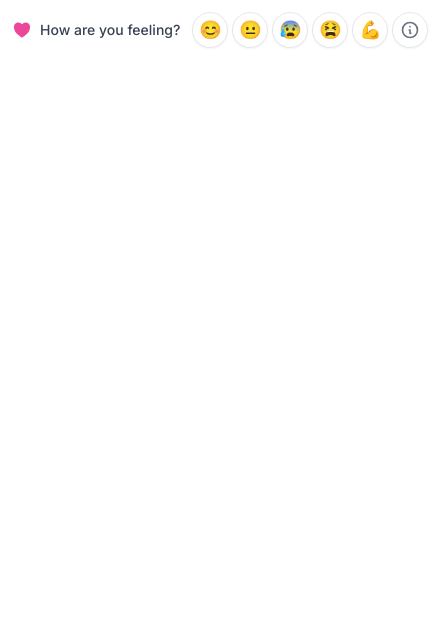
Scenario: EmotionTracker Component › expands the emotion details panel when "See details" is clicked
Note: Click on the "See details" button
Click the button titled "See details". click: (410, 30)
box: x1=392 y1=12 x2=428 y2=48
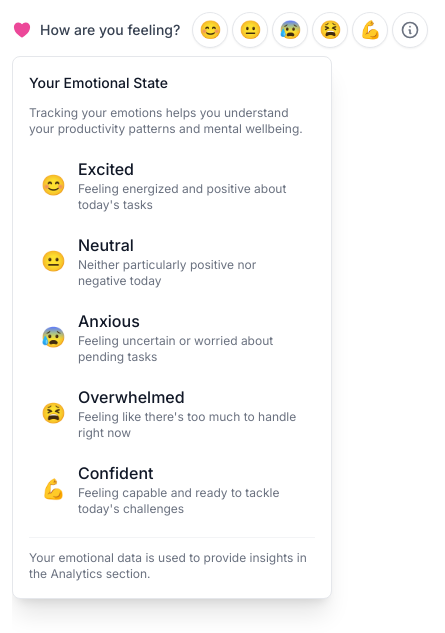
Check: the heading "Your Emotional State" is shown, box x1=29 y1=74 x2=168 y2=91
Check: the text "Tracking your emotions helps you understand your productivity patterns and mental wellbeing." is shown, box x1=29 y1=105 x2=303 y2=136
